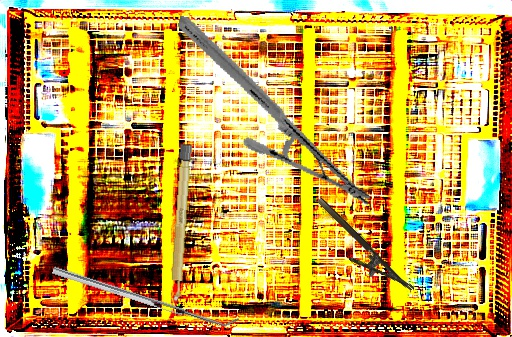Needle Holder: (145, 15, 403, 206), (303, 195, 415, 307)
Scalpel Handle: (168, 143, 193, 305)
Spatula Surgical: (51, 259, 240, 333)
